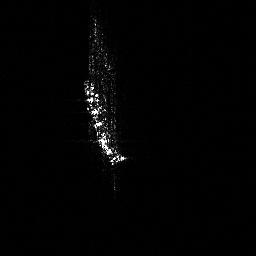ship: (80, 12, 132, 190)
